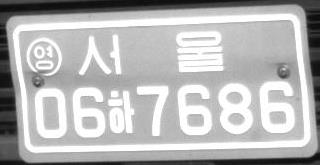0: (34, 86, 67, 140)
6: (258, 80, 295, 135), (175, 83, 213, 136), (72, 85, 106, 139)
7: (136, 84, 170, 136)
8: (217, 82, 254, 136)
서울_D: (77, 30, 224, 77)
영: (26, 38, 62, 77)
하: (108, 89, 134, 134)
